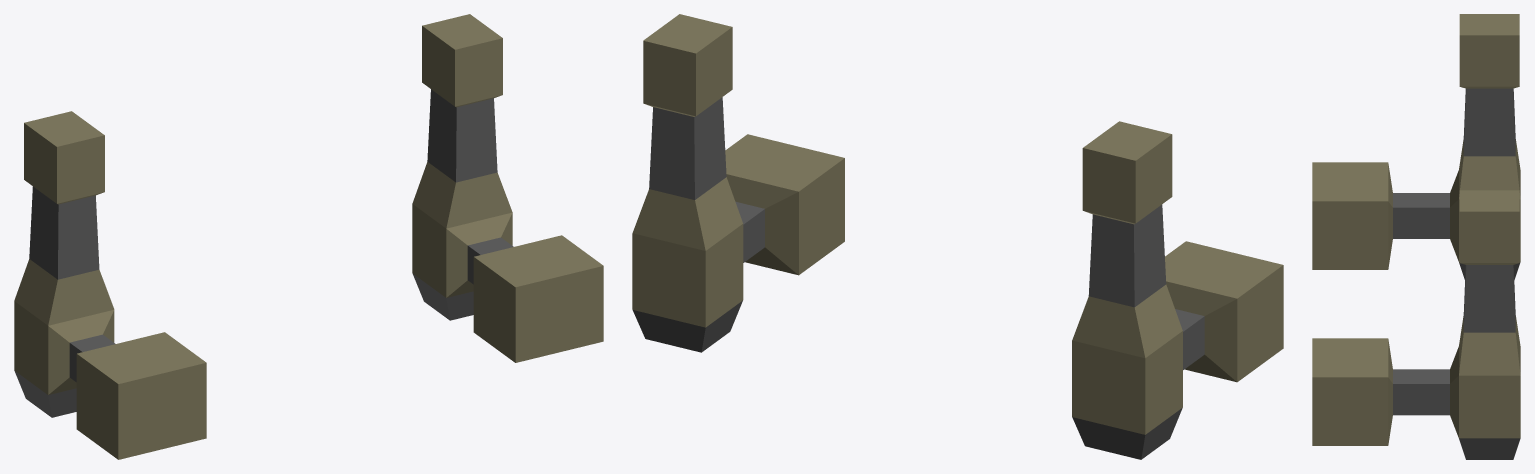
File: arm1.obj
The picture shows the model from 3 angles, left to right: view 1: azimuth 30°, elevation 25°; view 2: azimuth 150°, elevation 25°; view 3: azimuth 270°, elevation 25°; orthographic projection. The views are drawn at different scales.
Parts seen in each view (by area): view 1: MechArm1; view 2: MechArm1; view 3: MechArm1.
Part boxes in pixels (x1,y1,x2,y2): MechArm1: [14, 14, 603, 459]; MechArm1: [632, 14, 1283, 459]; MechArm1: [1312, 14, 1520, 459].
Bounding box in the file's own units: 7.82 × 4.21 × 3.2.
1 material, 1 textured.
